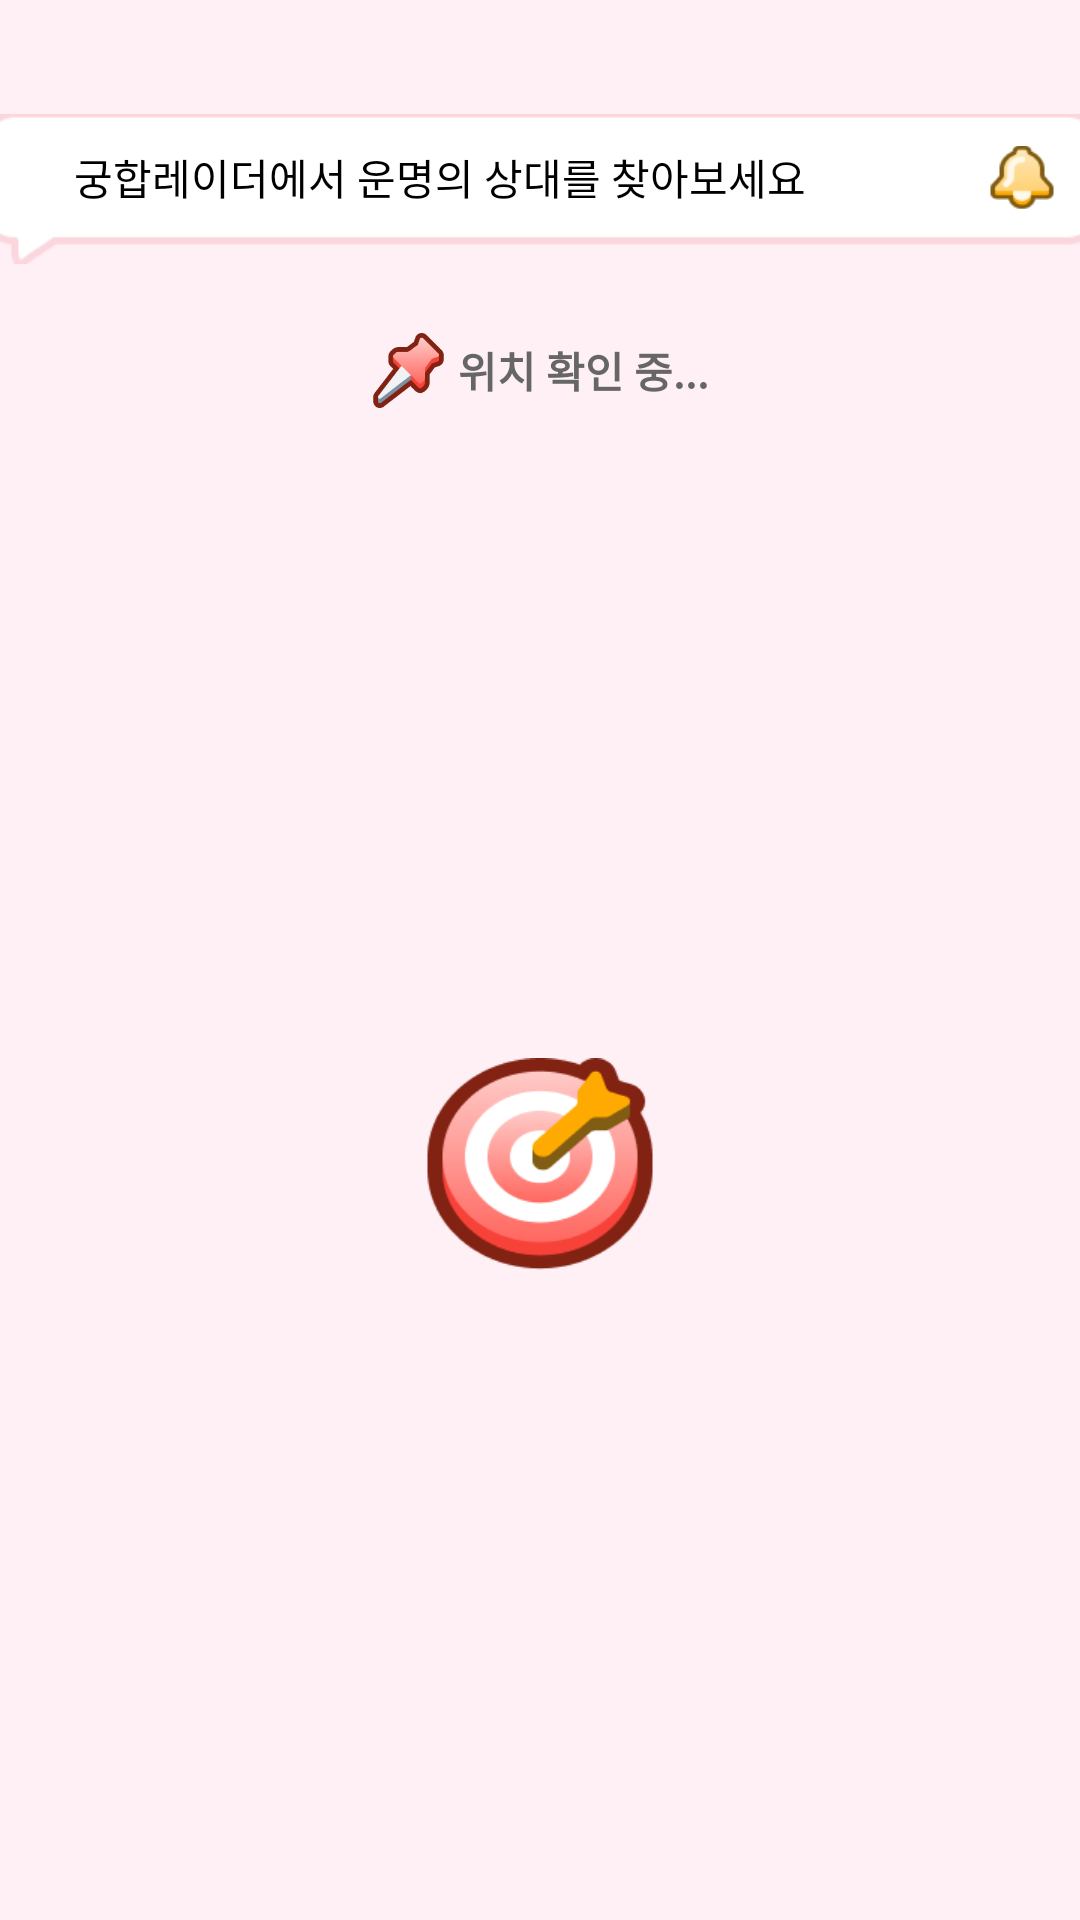

Named icons in this screenshot (1080px x 1920px) and their bounding boxes, (x1, y1, x2, y2):
bell: (990, 146, 1054, 209)
target: (427, 1058, 653, 1270)
